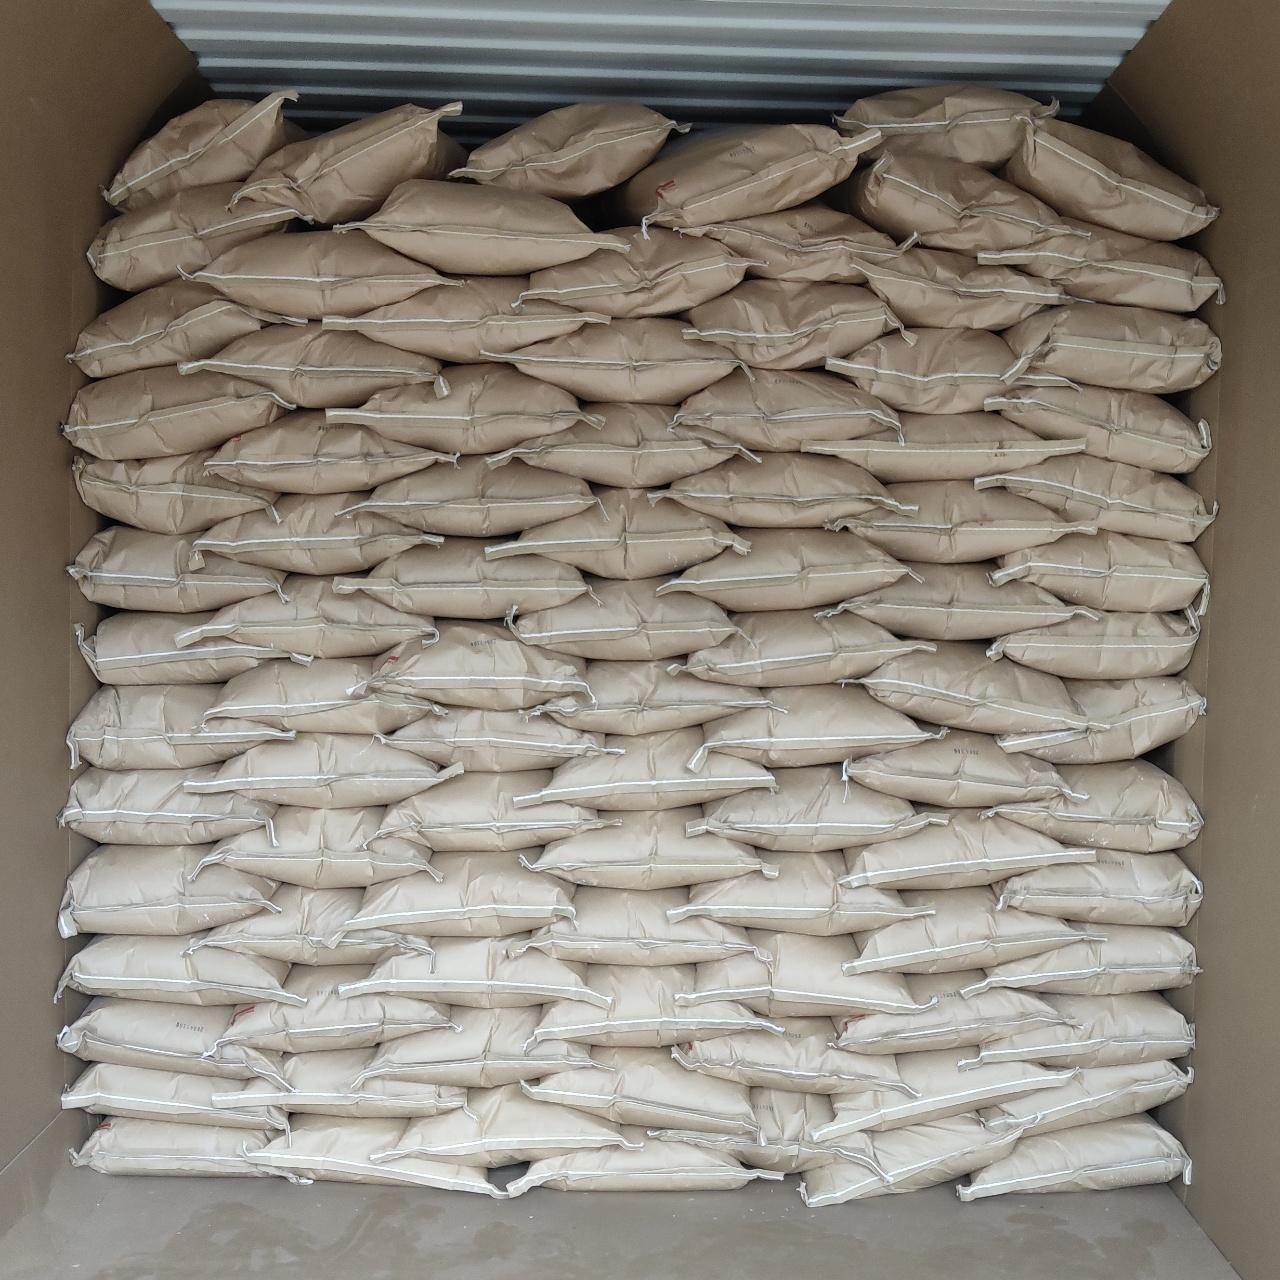sack: (606, 124, 878, 228), (234, 106, 464, 224), (830, 144, 1070, 254), (1002, 116, 1216, 238), (336, 180, 608, 270), (104, 90, 308, 206), (326, 278, 606, 360), (452, 102, 686, 198), (88, 184, 296, 292), (488, 488, 748, 574), (188, 232, 446, 318), (326, 366, 582, 452), (825, 327, 1078, 414), (978, 220, 1222, 310), (820, 1048, 1064, 1138), (180, 324, 446, 406), (482, 318, 740, 402), (70, 280, 300, 374), (674, 850, 930, 934), (496, 404, 756, 486), (976, 454, 1214, 542), (820, 562, 1092, 638), (516, 728, 774, 808), (530, 964, 780, 1046), (854, 642, 1080, 732), (522, 226, 748, 316), (828, 482, 1092, 558), (802, 1114, 1020, 1206), (196, 492, 440, 574), (846, 888, 1078, 974), (210, 410, 452, 492), (368, 770, 616, 850), (248, 1116, 502, 1194), (842, 808, 1094, 886), (190, 734, 462, 806), (194, 806, 438, 886), (184, 576, 434, 654), (220, 966, 452, 1050), (64, 368, 290, 454), (690, 766, 932, 846), (986, 384, 1210, 470), (188, 884, 428, 964), (680, 610, 932, 686), (526, 660, 782, 734), (1000, 304, 1220, 390), (704, 684, 934, 766), (960, 1116, 1190, 1198), (336, 538, 584, 614), (988, 760, 1202, 848), (368, 620, 582, 708), (682, 280, 900, 366), (60, 848, 278, 934), (526, 808, 766, 886), (844, 728, 1084, 806), (834, 972, 1066, 1052), (692, 932, 918, 1014), (526, 1048, 752, 1130), (342, 936, 606, 1006), (662, 530, 904, 606), (520, 888, 762, 964), (68, 684, 292, 766), (398, 1084, 622, 1166), (662, 452, 910, 526), (806, 412, 1082, 478), (352, 852, 574, 934), (360, 456, 592, 534), (674, 1018, 912, 1094), (858, 248, 1084, 328), (58, 998, 278, 1080), (676, 202, 900, 282), (660, 1090, 878, 1172), (68, 526, 284, 608), (510, 578, 734, 656), (58, 934, 300, 1006), (1000, 678, 1206, 762), (678, 368, 894, 448), (374, 1006, 590, 1086), (216, 1048, 466, 1116), (208, 658, 436, 732), (74, 450, 278, 532), (992, 532, 1206, 610), (62, 766, 276, 844), (964, 992, 1194, 1064), (836, 86, 1048, 164), (80, 612, 308, 684), (502, 1132, 780, 1190), (70, 1116, 308, 1182), (62, 1062, 286, 1132), (966, 926, 1196, 994), (996, 850, 1200, 926), (984, 1060, 1190, 1134), (382, 708, 622, 770), (986, 612, 1196, 678)
